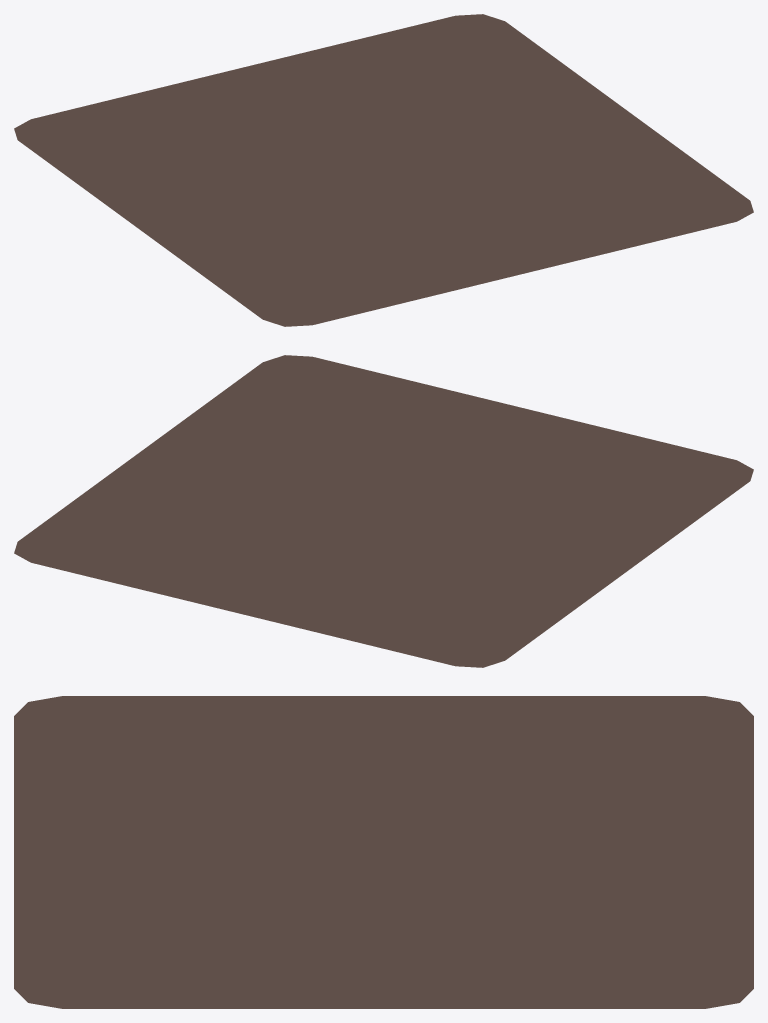
Rendered from TableA2_dirt_geo.fbx.
The picture shows the model from 3 angles, top to bottom: view 1: azimuth 30°, elevation 25°; view 2: azimuth 150°, elevation 25°; view 3: azimuth 270°, elevation 25°; orthographic projection. The views are drawn at different scales.
Parts seen in each view (by area): view 1: TableA2_dirt_geo; view 2: TableA2_dirt_geo; view 3: TableA2_dirt_geo.
Part boxes in pixels (bbox=[...]): TableA2_dirt_geo: bbox=[14, 14, 753, 326]; TableA2_dirt_geo: bbox=[14, 355, 753, 667]; TableA2_dirt_geo: bbox=[14, 696, 753, 1008].
Bounding box in the file's own units: 1.33 × 1.33 × 1.19e-07.
